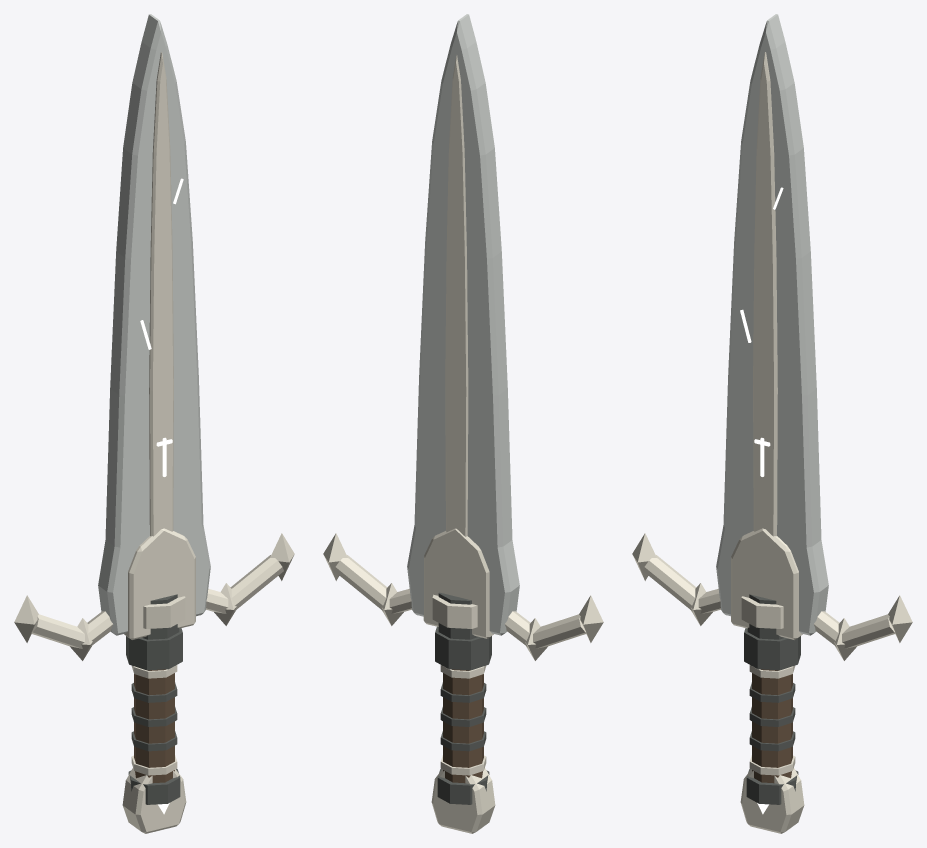
The model's file is Gravetide_Reaver.fbx.
3 renders of one model, left to right at view 1: azimuth 30°, elevation 25°; view 2: azimuth 150°, elevation 25°; view 3: azimuth 330°, elevation 25°, orthographic.
Parts seen in each view (by area): view 1: Gravetide_Blade, FunerarySpine, Tombstone_Ricasso, LeatherGrip, ReliquaryPommel, UpperGripCollar, Rib_R_Outer, Rib_L_Outer, GuardSocketRing, LowerGripCollar, GuardTip_L, Rib_L_Inner (+1 smaller); view 2: Gravetide_Blade, FunerarySpine, Tombstone_Ricasso, LeatherGrip, ReliquaryPommel, UpperGripCollar, Rib_R_Outer, GuardSocketRing, Rib_L_Outer, LowerGripCollar, GuardTip_L, HiltNeck (+2 smaller); view 3: Gravetide_Blade, FunerarySpine, Tombstone_Ricasso, LeatherGrip, ReliquaryPommel, UpperGripCollar, Rib_L_Outer, Rib_R_Outer, GuardSocketRing, LowerGripCollar, GuardTip_R, Rib_R_Inner (+1 smaller).
Part boxes in pixels (box(x1,y1,x2,y2)): Gravetide_Blade: box(98, 14, 210, 635); FunerarySpine: box(149, 52, 173, 536); Tombstone_Ricasso: box(124, 528, 195, 639); LeatherGrip: box(134, 669, 174, 783); ReliquaryPommel: box(122, 768, 186, 833); UpperGripCollar: box(126, 628, 182, 670); Rib_R_Outer: box(230, 555, 283, 611); Rib_L_Outer: box(31, 614, 84, 648); GuardSocketRing: box(143, 596, 185, 628); LowerGripCollar: box(128, 769, 180, 804); GuardTip_L: box(14, 595, 38, 642); Rib_L_Inner: box(87, 611, 113, 646); Gravetide_Blade: box(407, 14, 519, 635); FunerarySpine: box(445, 55, 468, 536); Tombstone_Ricasso: box(423, 528, 493, 638); LeatherGrip: box(443, 669, 483, 783); ReliquaryPommel: box(431, 768, 495, 833); UpperGripCollar: box(435, 626, 491, 670); Rib_R_Outer: box(334, 555, 387, 611); GuardSocketRing: box(432, 594, 477, 628); Rib_L_Outer: box(533, 614, 586, 648); LowerGripCollar: box(437, 769, 489, 804); GuardTip_L: box(579, 595, 603, 642); HiltNeck: box(438, 592, 478, 639); Gravetide_Blade: box(716, 14, 828, 635); FunerarySpine: box(753, 52, 777, 536); Tombstone_Ricasso: box(731, 528, 802, 639); LeatherGrip: box(752, 669, 792, 783); ReliquaryPommel: box(740, 768, 804, 833); UpperGripCollar: box(744, 628, 800, 670); Rib_L_Outer: box(643, 555, 696, 611); Rib_R_Outer: box(842, 614, 895, 648); GuardSocketRing: box(741, 596, 783, 628); LowerGripCollar: box(746, 769, 798, 804); GuardTip_R: box(888, 595, 912, 642); Rib_R_Inner: box(813, 611, 839, 646).
Bounding box in the file's own units: 60.6 × 167 × 12.
